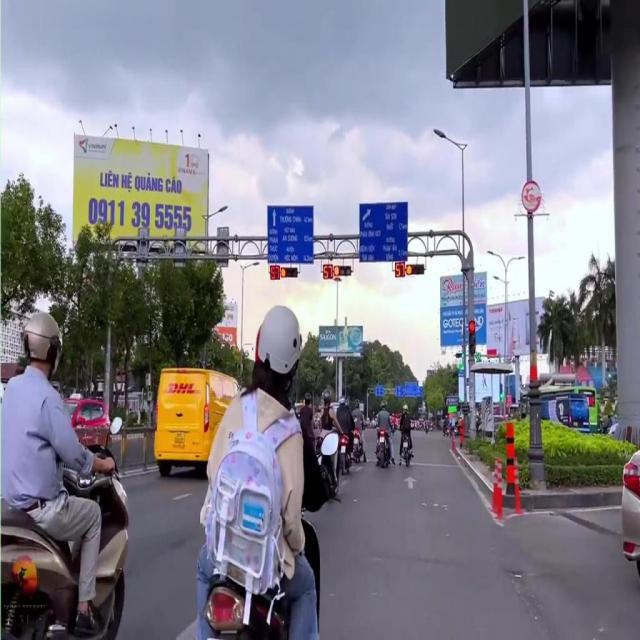khac: (359, 200, 408, 264), (268, 206, 314, 264)
